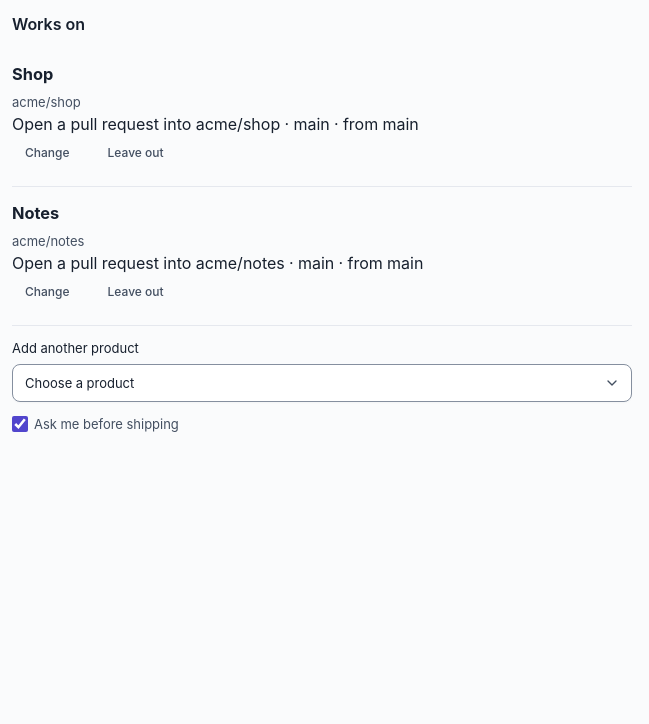
shared product controls › disables applying a true shared-product edit while validation is in flight
Step 1. Click the 1st button "Change" → (47, 153), box [12,136,82,170]
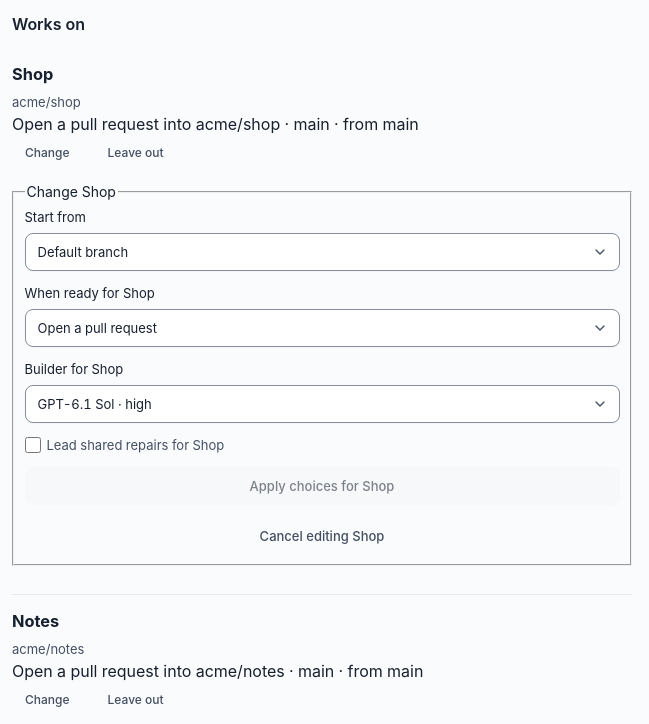
Expected: the button "Apply choices for Shop" is disabled
Step 2. Click the button "Apply choices for Shop" → (322, 486), box [24,467,620,505]
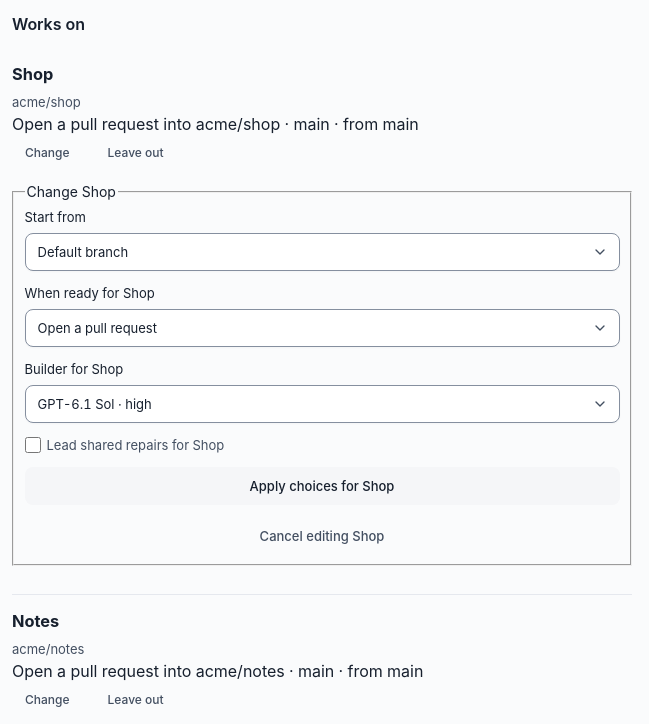
Expected: the button "Apply choices for Shop" is enabled, [24,467,620,505]
